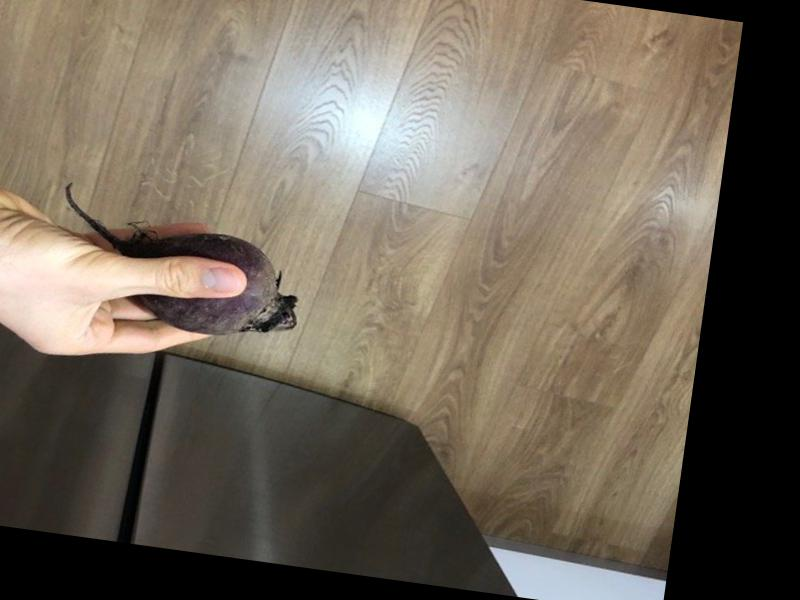Beet: (51, 181, 313, 347)
